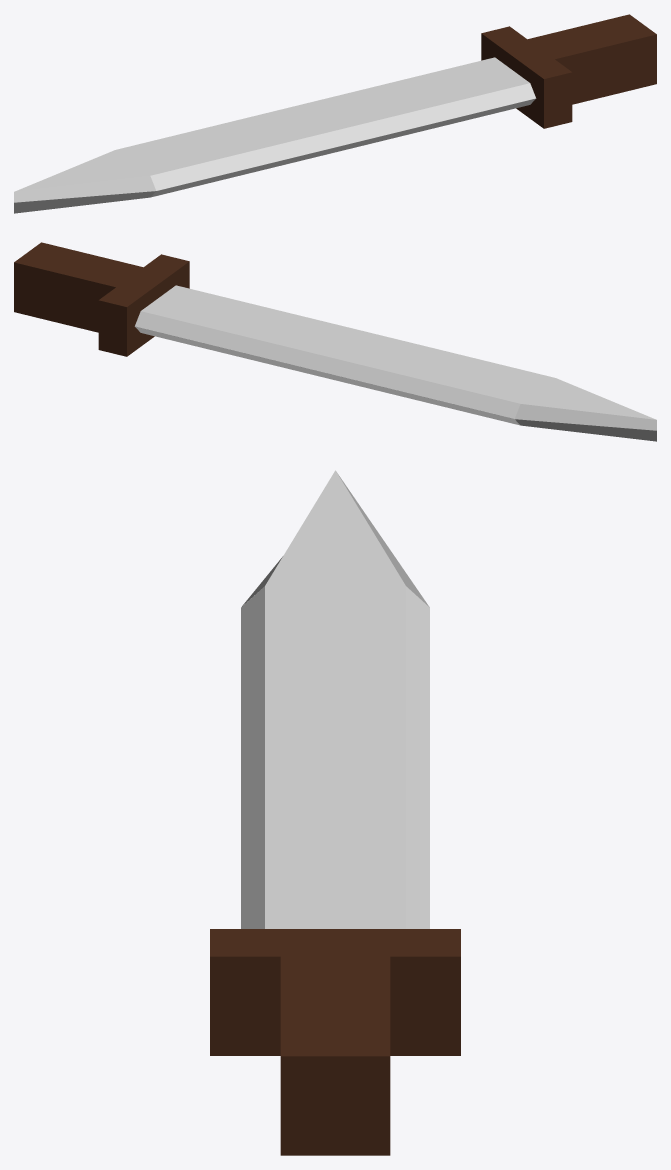
The model's file is Sword.fbx.
The picture shows the model from 3 angles, top to bottom: view 1: azimuth 30°, elevation 25°; view 2: azimuth 150°, elevation 25°; view 3: azimuth 270°, elevation 25°; orthographic projection. The views are drawn at different scales.
Visible parts, largest first — view 1: Sword.001; view 2: Sword.001; view 3: Sword.001.
Boxes of the visible parts, x1=… form: Sword.001: x1=14, y1=14, x2=656, y2=213; Sword.001: x1=14, y1=242, x2=656, y2=441; Sword.001: x1=210, y1=470, x2=460, y2=1155.
Size of the model in its own units: 133 by 10 by 22.88.
